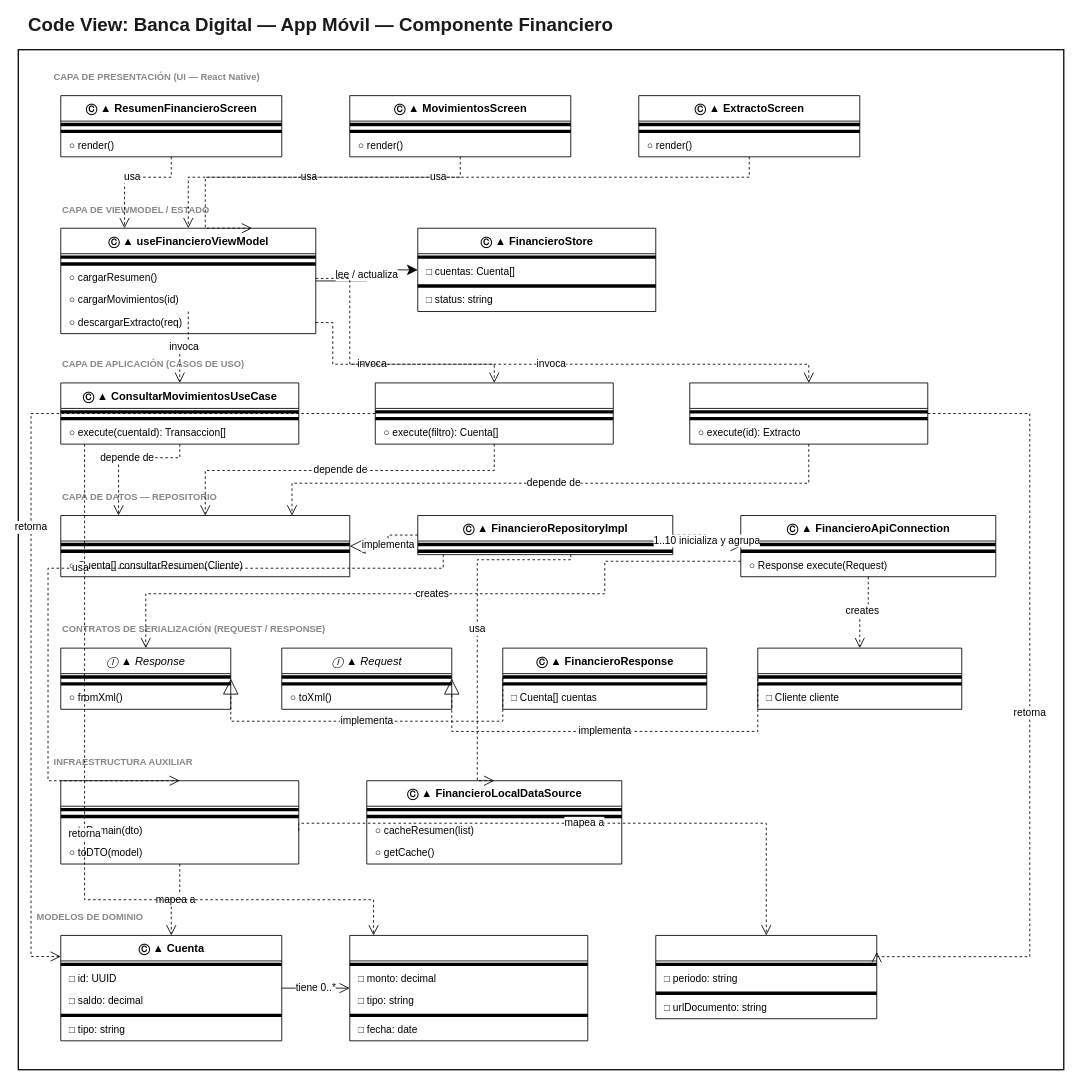
This 1079x1085 diagram has some shape labels left out. Each missing label, with the box of its shape:
Ⓒ ▲ ConsultarResumenUseCase: (374, 382, 613, 444)
Ⓒ ▲ Extracto: (655, 935, 877, 1019)
Ⓒ ▲ FinancieroMapper: (60, 780, 299, 864)
Ⓒ ▲ FinancieroRequest: (757, 647, 962, 709)
Ⓒ ▲ GenerarExtractoUseCase: (689, 382, 928, 444)
Ⓒ ▲ Transaccion: (349, 935, 588, 1041)
Ⓘ ▲ FinancieroRepository: (60, 515, 350, 577)
